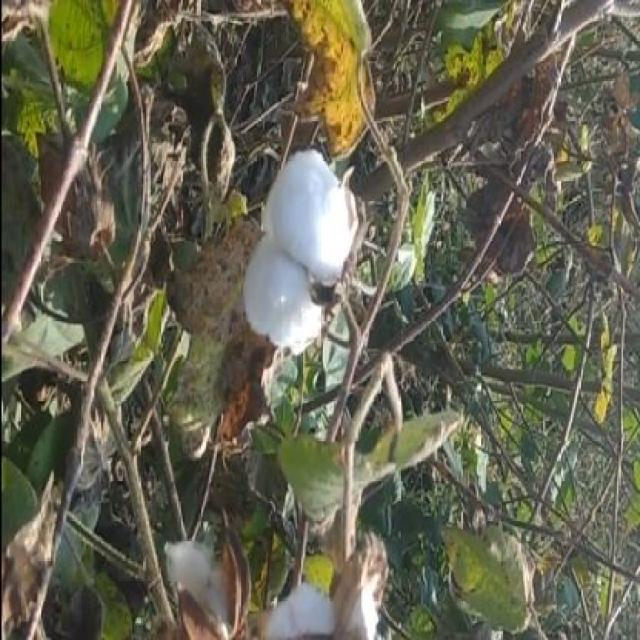cotton_ready: (226, 92, 383, 362)
